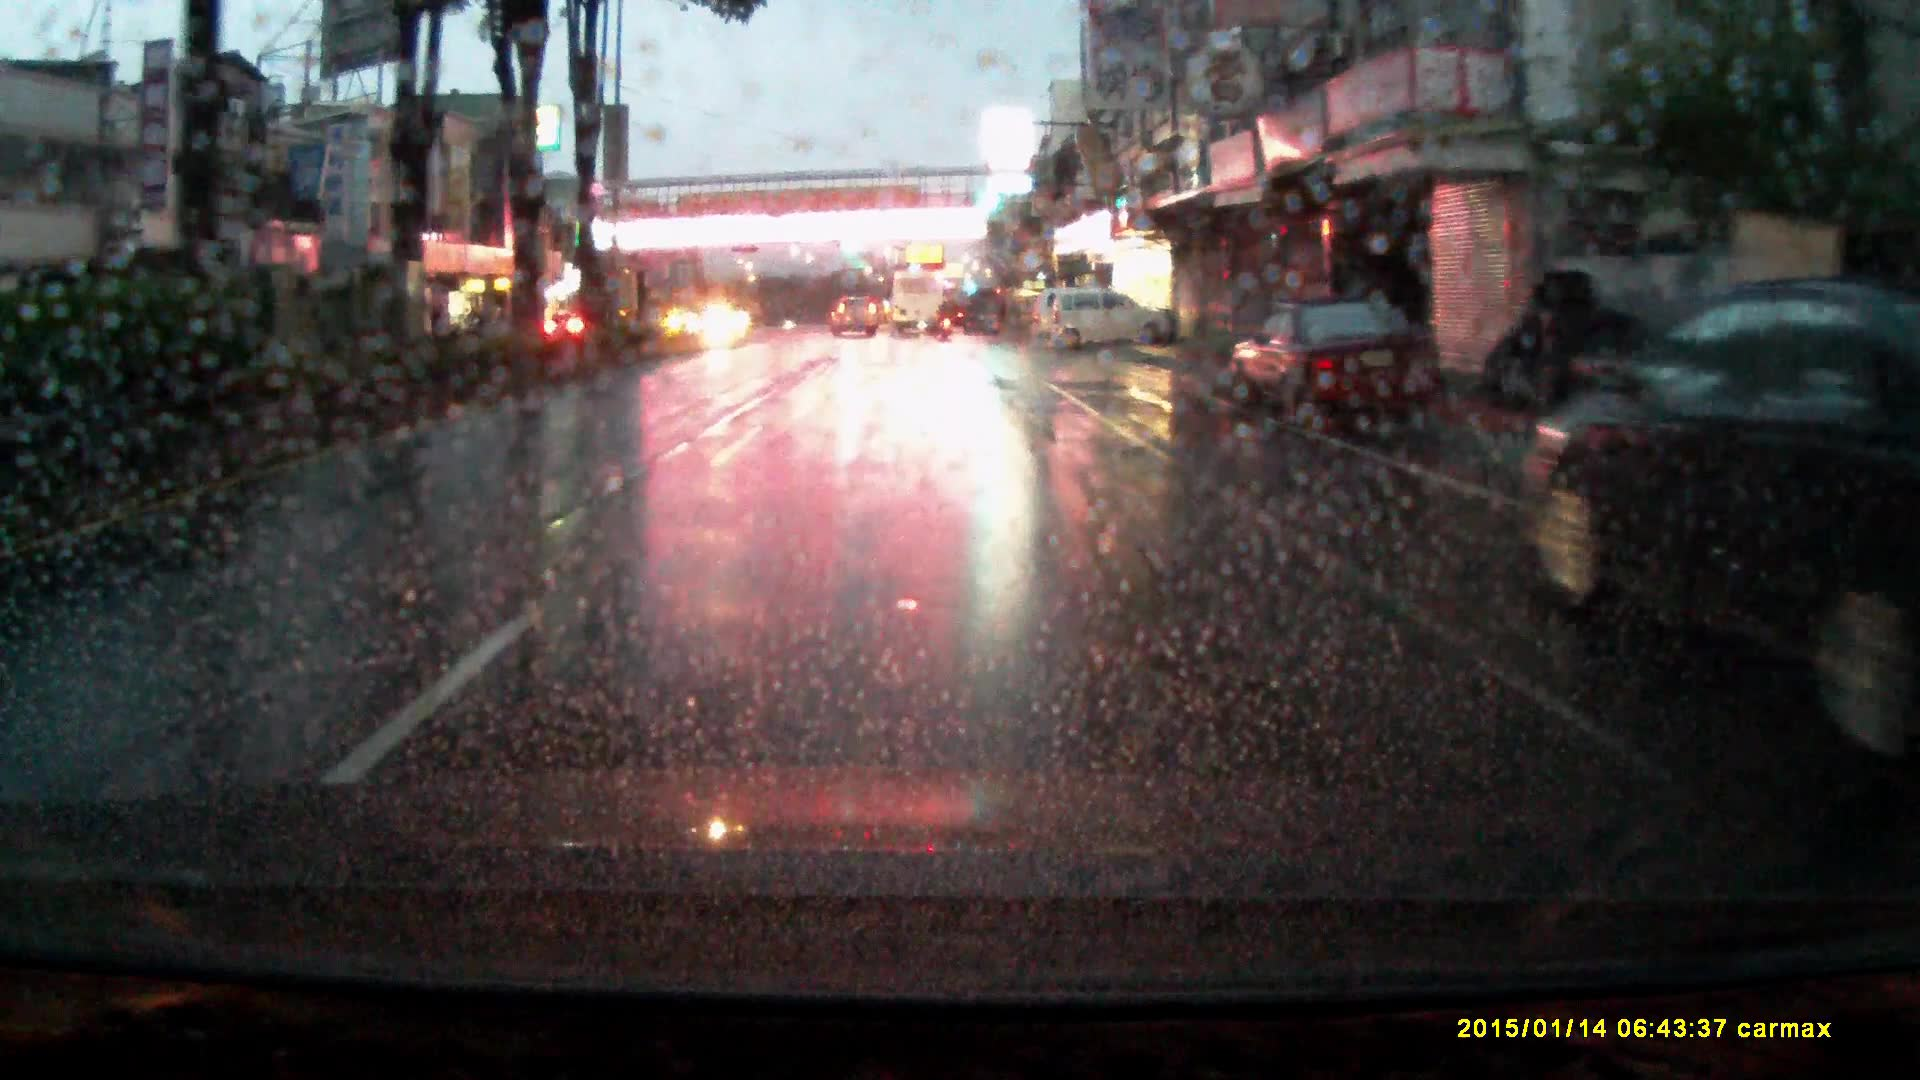vehicle: (1514, 294, 1920, 717), (1233, 302, 1455, 439), (1052, 289, 1174, 355), (891, 272, 945, 334), (833, 295, 880, 338), (1031, 289, 1068, 340)
